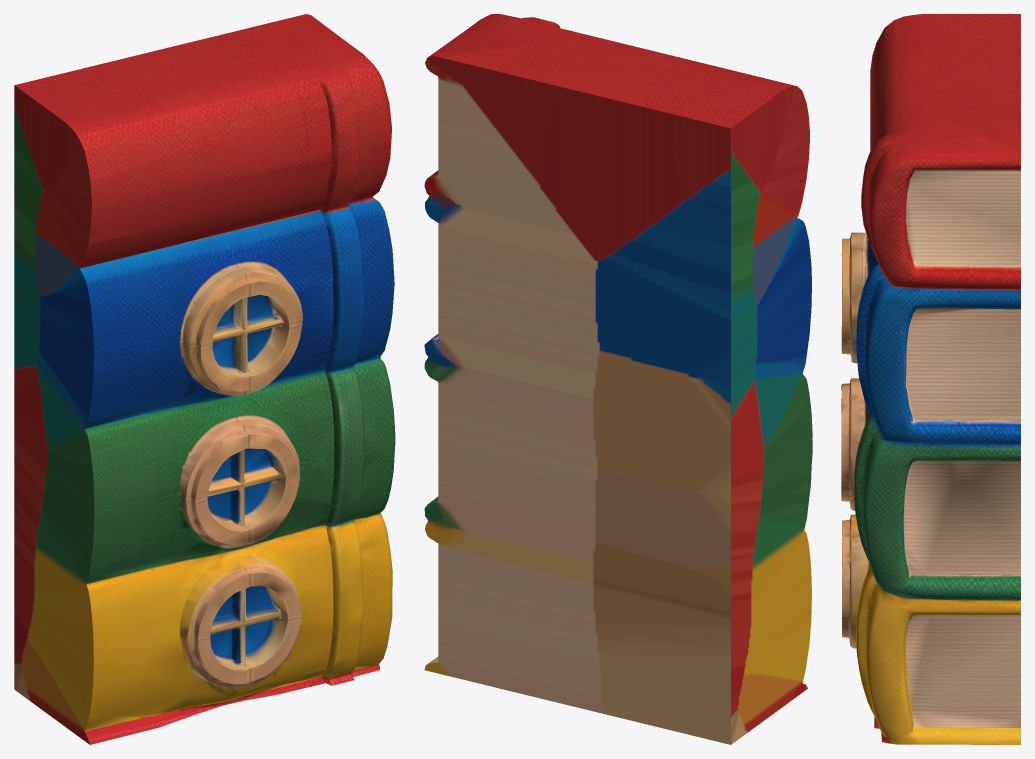
Rendered from 14-topper-front-right.fbx.
The picture shows the model from 3 angles, left to right: view 1: azimuth 30°, elevation 25°; view 2: azimuth 150°, elevation 25°; view 3: azimuth 270°, elevation 25°; orthographic projection. The views are drawn at different scales.
Visible parts, largest first — view 1: topper-front-right; view 2: topper-front-right; view 3: topper-front-right.
Part boxes in pixels (x1,y1,x2,y2): topper-front-right: (14,14,395,744); topper-front-right: (424,14,812,744); topper-front-right: (841,14,1020,744).
Bounding box in the file's own units: 6057 × 11560 × 3200.
Materials: 1 (1 with a texture image).
